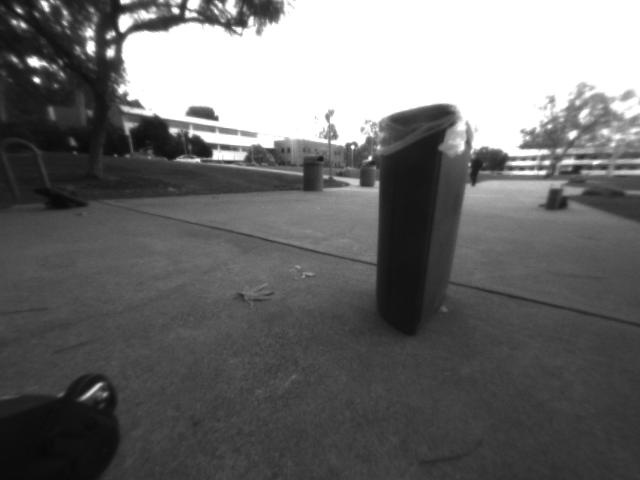trashcan_open: (372, 99, 489, 341)
